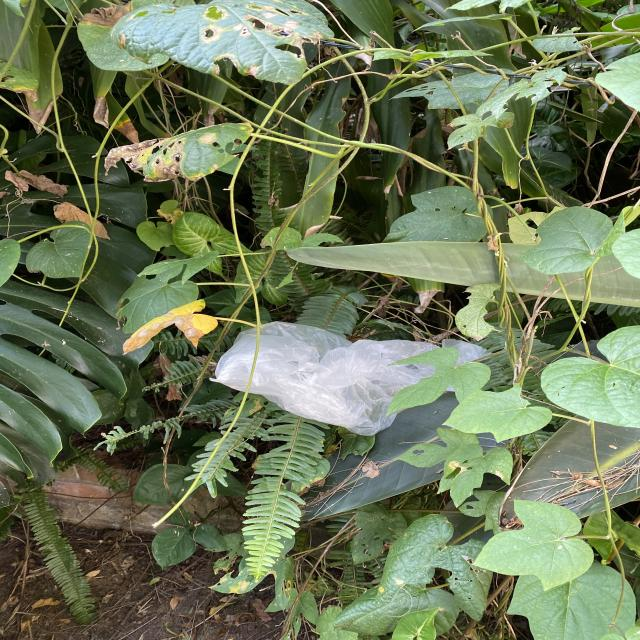cloth: (208, 314, 493, 438)
